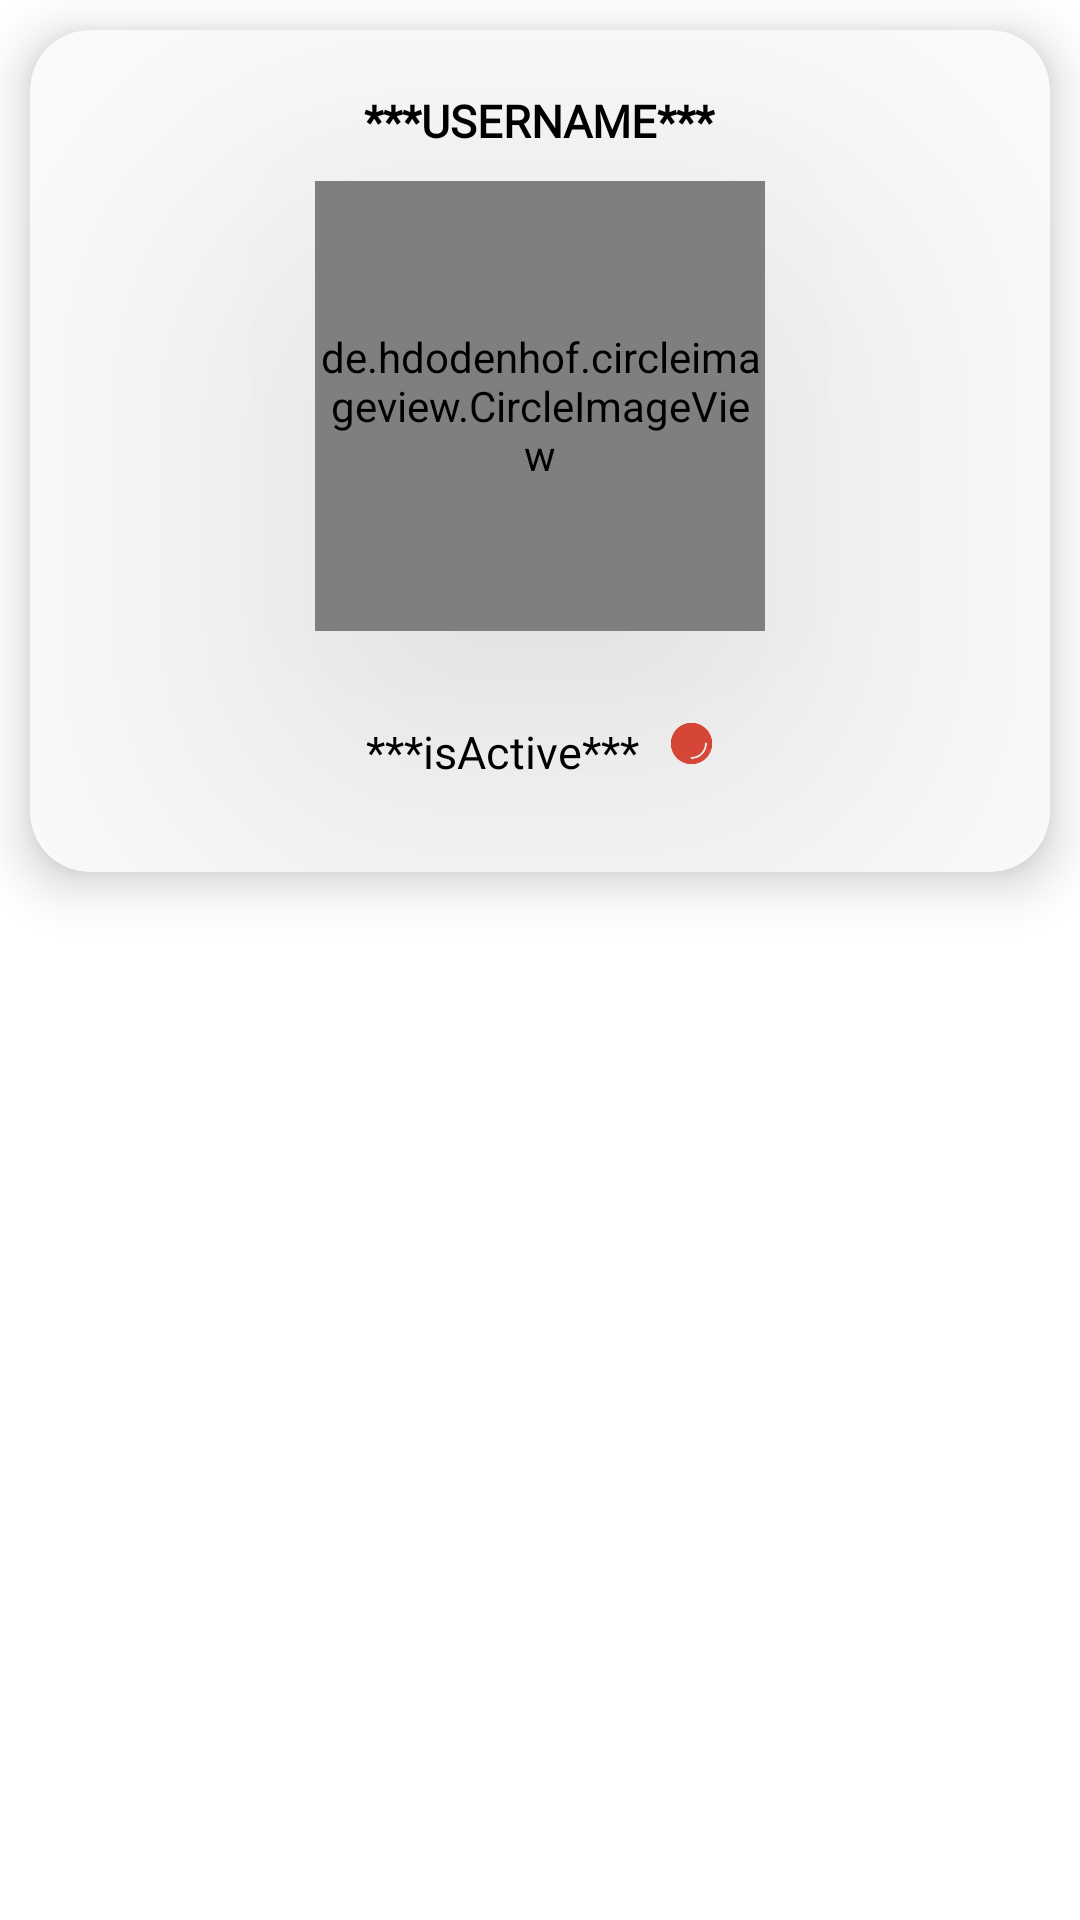

Screen size 1080*1920. Icon name, then its box in pixels as (x1, y1, x2, y2):
offline: (671, 723, 712, 764)
